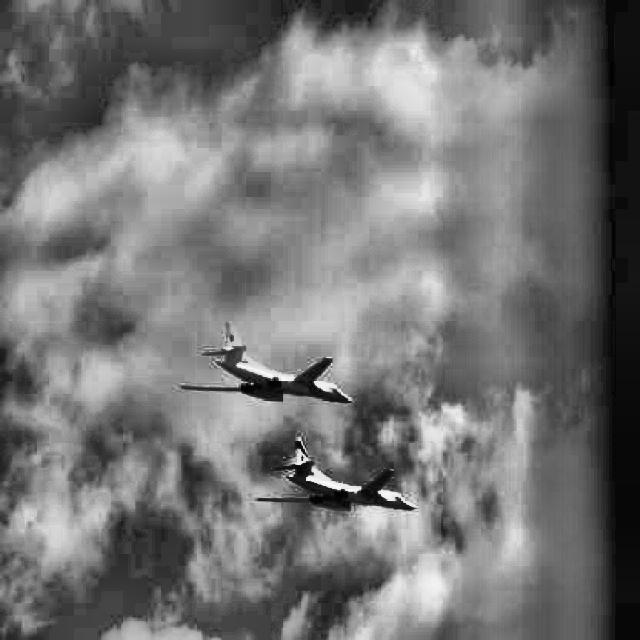Tu160: (178, 321, 354, 402), (255, 436, 416, 510)
